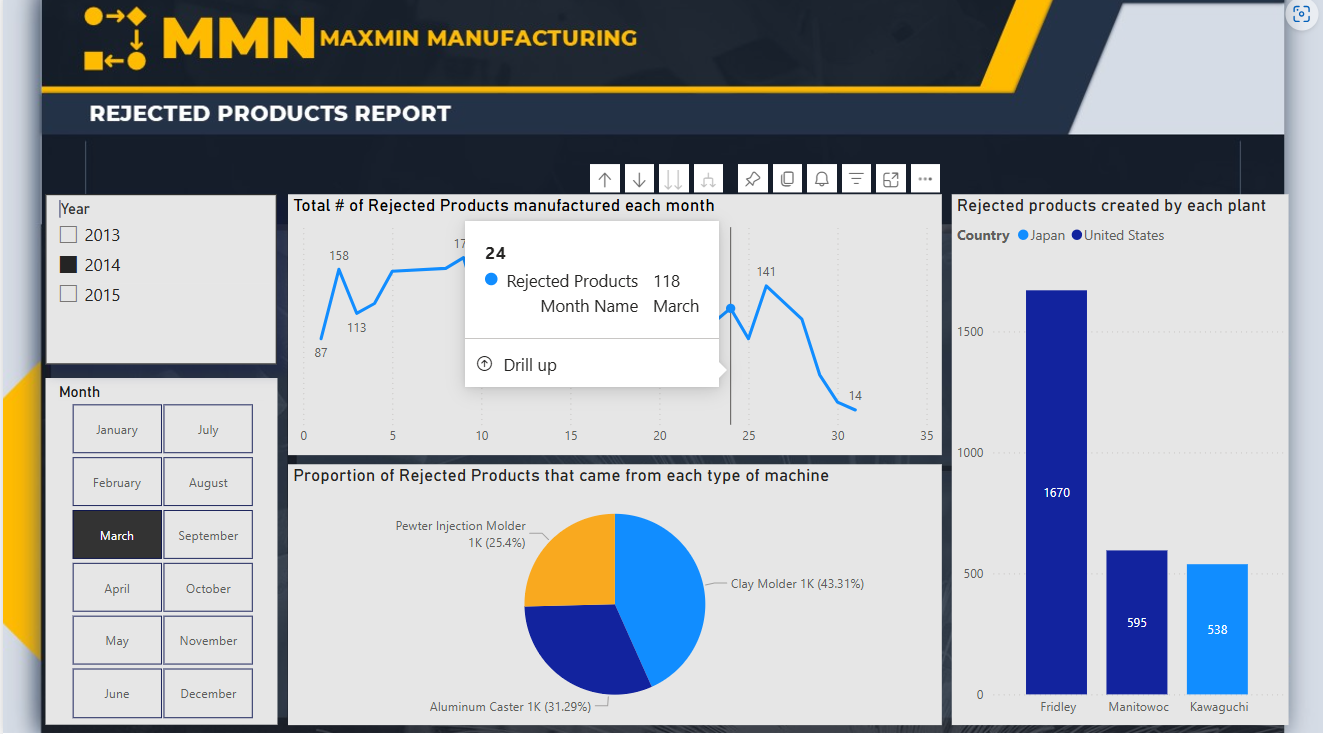

What the dashboard file says about the page in this screenshot:
{"tool":"powerbi","page":{"name":"Page 1","canvas":[1280,720],"ordinal":0},"visuals":[{"type":"columnChart","title":"Rejected products created by each plant ","fields":{"Category":["DimPlant.PlantName"],"Y":["Sum(FactManufacturing.RejectedProducts)"],"Series":["DimCountry.CountryName"]},"box":[919.4,194.9,326.6,514.6],"z":0},{"type":"lineChart","title":"Total # of Rejected Products manufactured each month","fields":{"Y":["Sum(FactManufacturing.RejectedProducts)"],"Category":["Date.Year Hierarchy.Month Name","Date.Year Hierarchy.Day"]},"box":[275.8,194.9,634,252.5],"z":1000},{"type":"slicer","fields":{"Values":["Date.Year Hierarchy.Month Name"]},"box":[41.2,373.2,225,336.2],"z":2000},{"type":"slicer","fields":{"Values":["Date.Year Hierarchy.Year"]},"box":[41.2,194.9,223.7,164.7],"z":3000},{"type":"pieChart","title":"Proportion of Rejected Products that came from each type of machine","fields":{"Category":["DimMachineType.MachineType"],"Y":["Sum(FactManufacturing.RejectedProducts)"]},"box":[275.8,456.9,634,252.5],"z":4000}]}

Visuals, with their boxes in screenshot pixels (x1, y1, x2, y2):
"Rejected products created by each plant " columnChart: region(955, 189, 1295, 726)
"Total # of Rejected Products manufactured each month" lineChart: region(284, 189, 945, 452)
slicer - Date.Year Hierarchy.Month Name: region(39, 375, 274, 725)
slicer - Date.Year Hierarchy.Year: region(39, 189, 273, 361)
"Proportion of Rejected Products that came from each type of machine" pieChart: region(284, 462, 945, 725)
